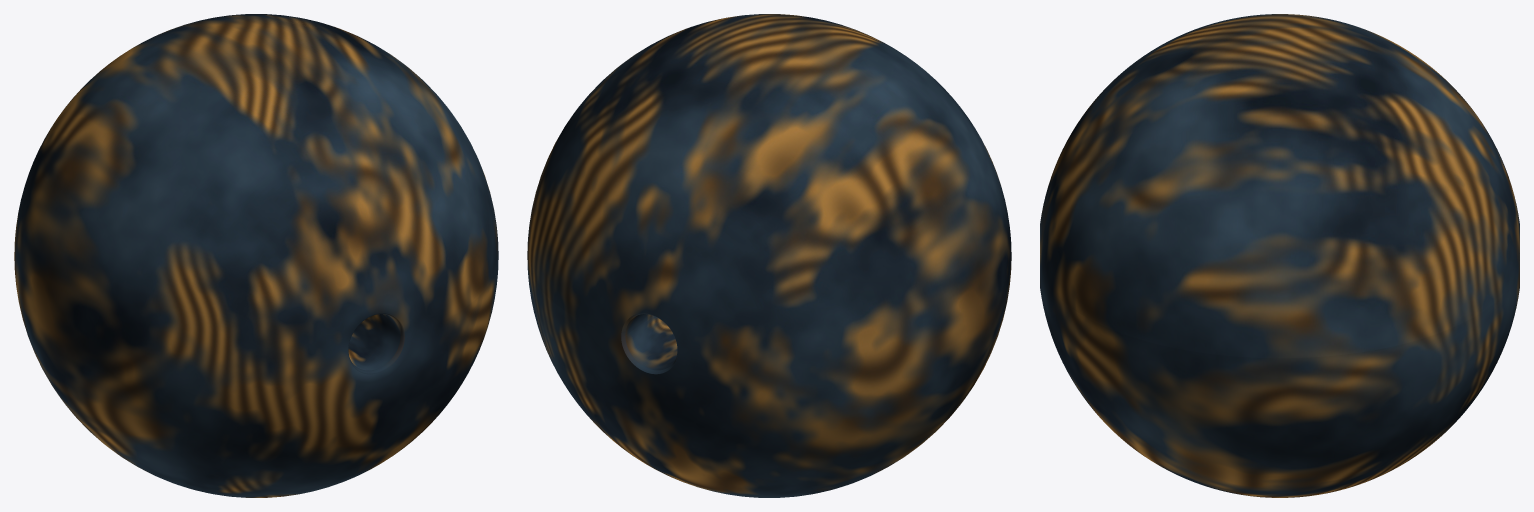
Rendered from pietersite.glb.
3 renders of one model, left to right at view 1: azimuth 30°, elevation 25°; view 2: azimuth 150°, elevation 25°; view 3: azimuth 270°, elevation 25°, orthographic.
Visible parts, largest first — view 1: pietersite.001; view 2: pietersite.001; view 3: pietersite.001.
Part boxes in pixels (x1=…): pietersite.001: x1=14, y1=14, x2=498, y2=497; pietersite.001: x1=527, y1=14, x2=1011, y2=497; pietersite.001: x1=1040, y1=14, x2=1519, y2=497.
Size of the model in its own units: 0.008 by 0.008 by 0.00793.
Materials: 1 (1 with a texture image).
